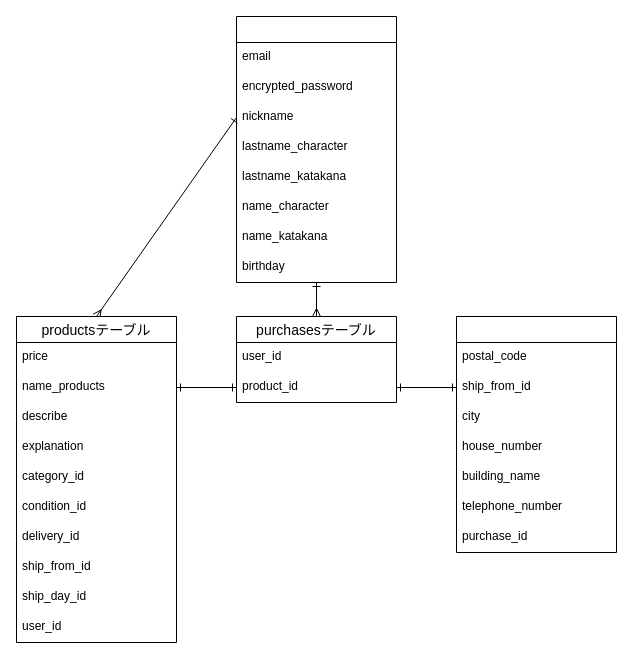
The diagram is 633 pixels wide and 659 high, and some of its shapes have lost their labels. Each missing label, with the box of its shape:
destinationsテーブル: (456, 316, 616, 552)
usersテーブル: (236, 16, 396, 282)
